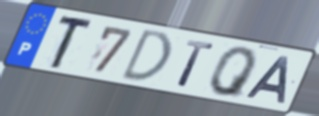7: (92, 25, 133, 74)
A: (243, 55, 291, 106)
D: (117, 28, 173, 84)
Q: (208, 46, 259, 100)
T: (47, 15, 96, 70), (176, 38, 217, 90)
